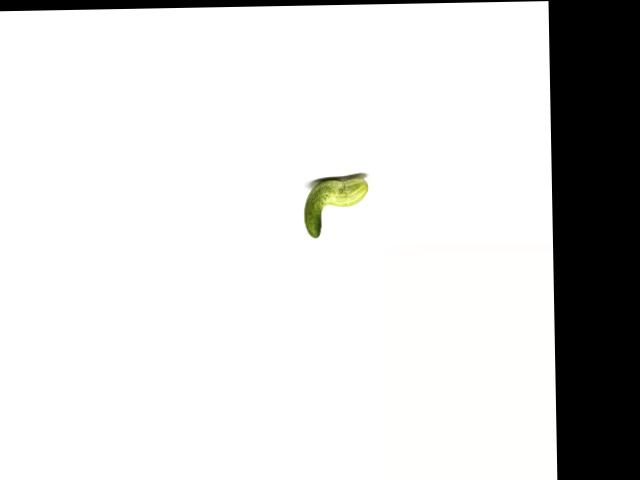cucumber: (302, 176, 368, 237)
